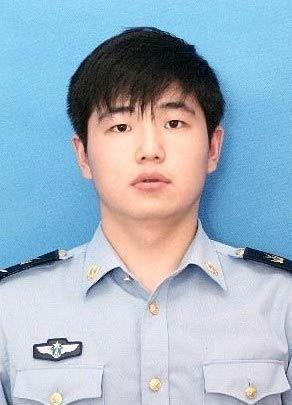unmask: (86, 95, 220, 220)
